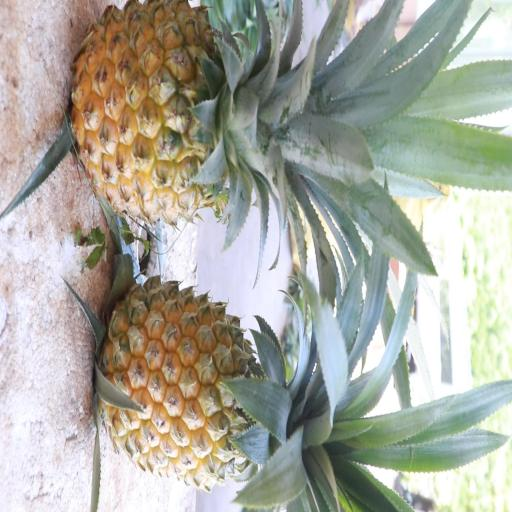Pineapple - v8 v1: (66, 0, 311, 232), (93, 272, 343, 493)
